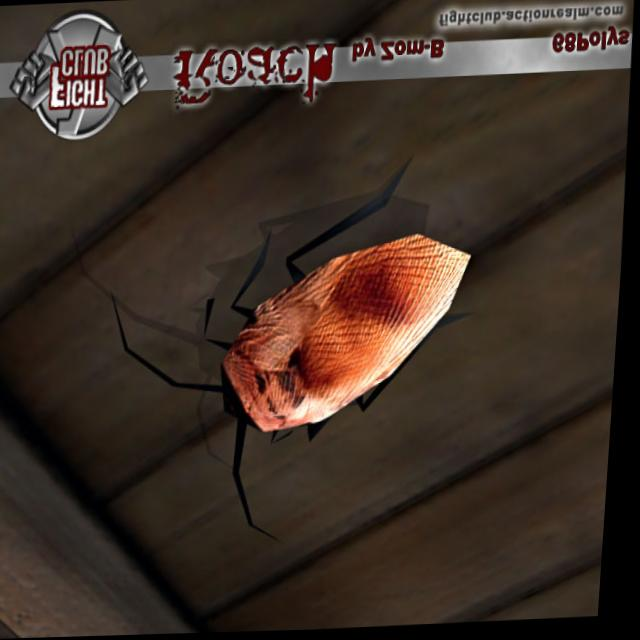Cockroach: (96, 144, 516, 563)
